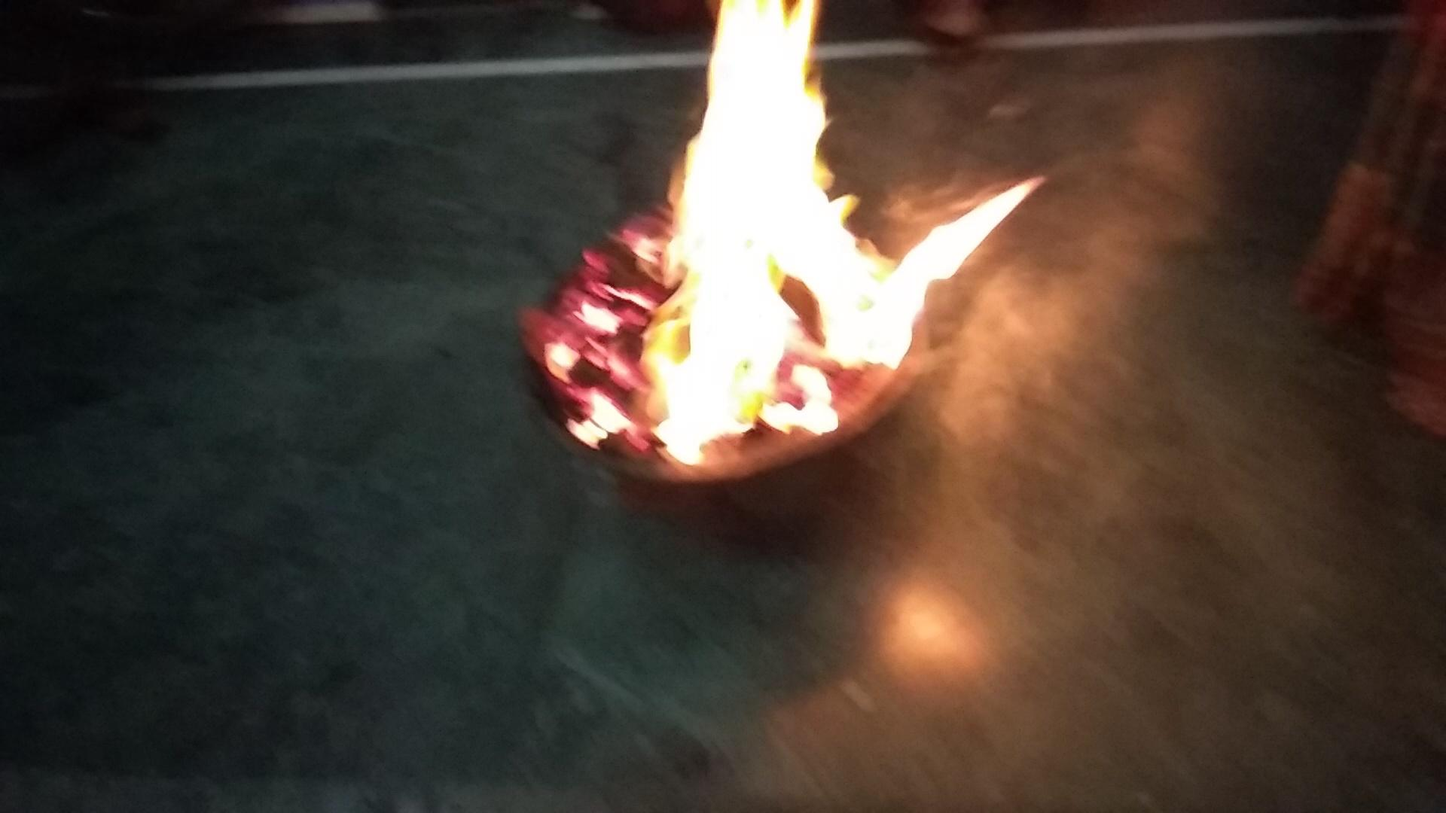fire: (538, 11, 1037, 475)
